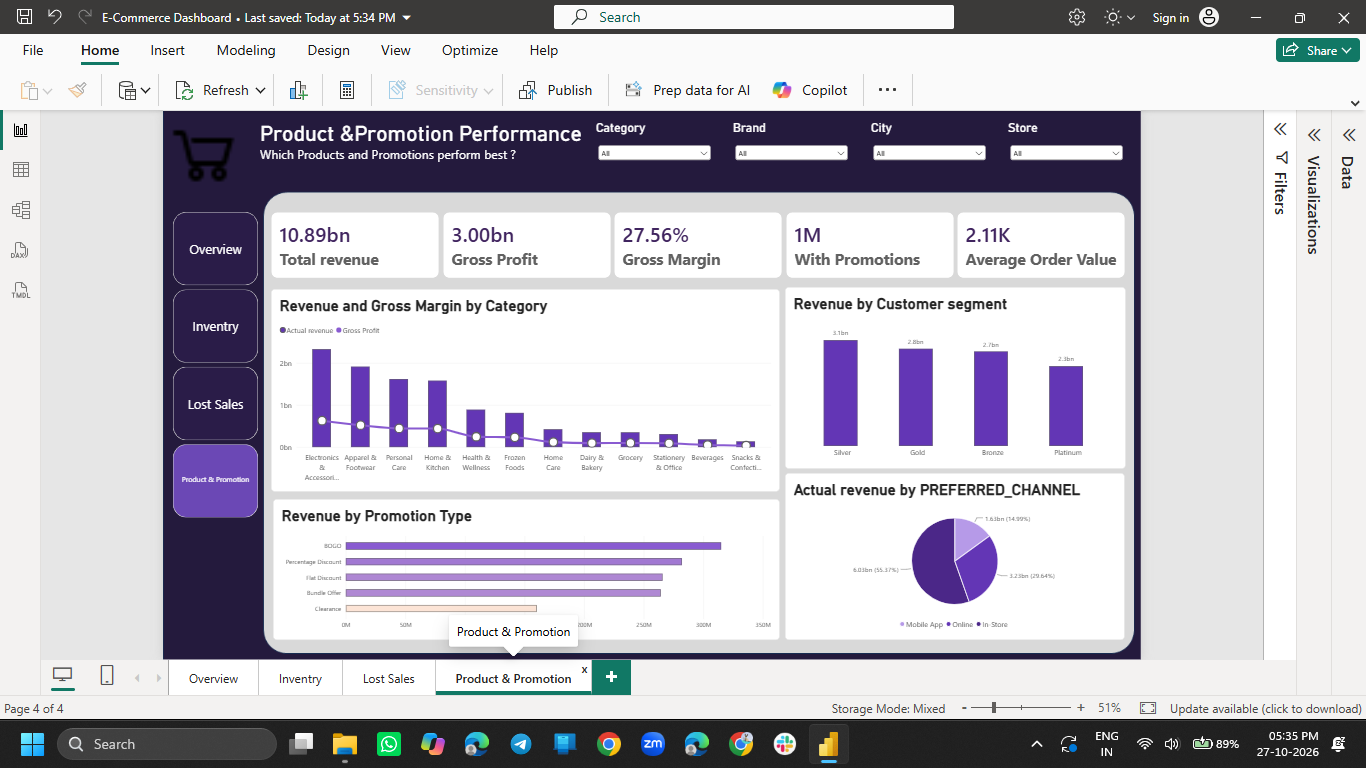

The page's visual inventory and layout, read from the dashboard file:
{"tool":"powerbi","page":{"name":"Product & Promotion","canvas":[1920,1080],"ordinal":3},"visuals":[{"type":"image","box":[0,2.1,1920,1076.9],"z":0},{"type":"cardVisual","title":"Total Sales","fields":{"Data":["SALES_TRANSACTIONS.Total Sales"]},"box":[212.5,200,330,130],"z":1000},{"type":"cardVisual","title":"Total Customers","fields":{"Data":["SALES_TRANSACTIONS.Gross Margin %"]},"box":[886.2,200,330,130],"z":2000},{"type":"cardVisual","fields":{"Data":["SALES_TRANSACTIONS.Gross Profit"]},"box":[549.4,200,330,130],"z":3000},{"type":"cardVisual","fields":{"Data":["SALES_TRANSACTIONS.Orders with Promotions"]},"box":[1223.1,200,330,130],"z":4000},{"type":"cardVisual","title":"Total Units Sold","fields":{"Data":["SALES_TRANSACTIONS.Average Order Value"]},"box":[1560,200,330,130],"z":5000},{"type":"lineStackedColumnComboChart","title":"Revenue and Gross Margin by Category","fields":{"Category":["DimSKU.CATEGORY"],"Y":["SALES_TRANSACTIONS.Total Sales"],"Y2":["SALES_TRANSACTIONS.Gross Profit"]},"box":[212.6,351,999.2,398.5],"z":6000},{"type":"barChart","title":"Revenue by Promotion Type","fields":{"Category":["PROMOTIONS.PROMO_TYPE"],"Y":["SALES_TRANSACTIONS.Actual revenue"]},"box":[216.8,763.9,995.1,276.6],"z":7000},{"type":"pieChart","fields":{"Category":["CUSTOMER_MASTER.PREFERRED_CHANNEL"],"Y":["SALES_TRANSACTIONS.Actual revenue"]},"box":[1222.2,712.3,666.8,328.3],"z":8000},{"type":"shape","title":"Product &Promotion Performance","box":[190.9,21.5,658.6,109.4],"z":9000},{"type":"slicer","title":"Category","fields":{"Values":["DimSKU.CATEGORY"]},"box":[850,22.5,230,107.5],"z":10000},{"type":"slicer","title":"Brand","fields":{"Values":["DimSKU.BRAND"]},"box":[1120,22.5,230,107.5],"z":11000},{"type":"slicer","title":"City","fields":{"Values":["STORE_MASTER.CITY"]},"box":[1390,22.5,230,107.5],"z":12000},{"type":"slicer","title":"Store","fields":{"Values":["STORE_MASTER.STORE_TYPE"]},"box":[1660,22.5,230,107.5],"z":13000},{"type":"image","box":[0,2.5,160,165],"z":14000},{"type":"pageNavigator","box":[20,200,167.5,602.5],"z":15000},{"type":"columnChart","title":"Revenue by Customer segment","fields":{"Category":["CUSTOMER_MASTER.LOYALTY_SEGMENT"],"Y":["SALES_TRANSACTIONS.Actual revenue"]},"box":[1222.2,346.8,668.9,357.2],"z":16000}]}

Visuals, with their boxes on the page's 1920x1080 design canvas (x1, y1, x2, y2). These are canvas units, not pixel positions in the 1366x768 screenshot, which may show the page scaled, cropped or inside an application window:
image: {"left": 0, "top": 2, "right": 1920, "bottom": 1079}
"Total Sales" cardVisual: {"left": 212, "top": 200, "right": 542, "bottom": 330}
"Total Customers" cardVisual: {"left": 886, "top": 200, "right": 1216, "bottom": 330}
cardVisual - SALES_TRANSACTIONS.Gross Profit: {"left": 549, "top": 200, "right": 879, "bottom": 330}
cardVisual - SALES_TRANSACTIONS.Orders with Promotions: {"left": 1223, "top": 200, "right": 1553, "bottom": 330}
"Total Units Sold" cardVisual: {"left": 1560, "top": 200, "right": 1890, "bottom": 330}
"Revenue and Gross Margin by Category" lineStackedColumnComboChart: {"left": 213, "top": 351, "right": 1212, "bottom": 750}
"Revenue by Promotion Type" barChart: {"left": 217, "top": 764, "right": 1212, "bottom": 1040}
pieChart - CUSTOMER_MASTER.PREFERRED_CHANNEL x SALES_TRANSACTIONS.Actual revenue: {"left": 1222, "top": 712, "right": 1889, "bottom": 1041}
"Product &Promotion Performance" shape: {"left": 191, "top": 22, "right": 850, "bottom": 131}
"Category" slicer: {"left": 850, "top": 22, "right": 1080, "bottom": 130}
"Brand" slicer: {"left": 1120, "top": 22, "right": 1350, "bottom": 130}
"City" slicer: {"left": 1390, "top": 22, "right": 1620, "bottom": 130}
"Store" slicer: {"left": 1660, "top": 22, "right": 1890, "bottom": 130}
image: {"left": 0, "top": 2, "right": 160, "bottom": 168}
pageNavigator: {"left": 20, "top": 200, "right": 188, "bottom": 802}
"Revenue by Customer segment" columnChart: {"left": 1222, "top": 347, "right": 1891, "bottom": 704}
